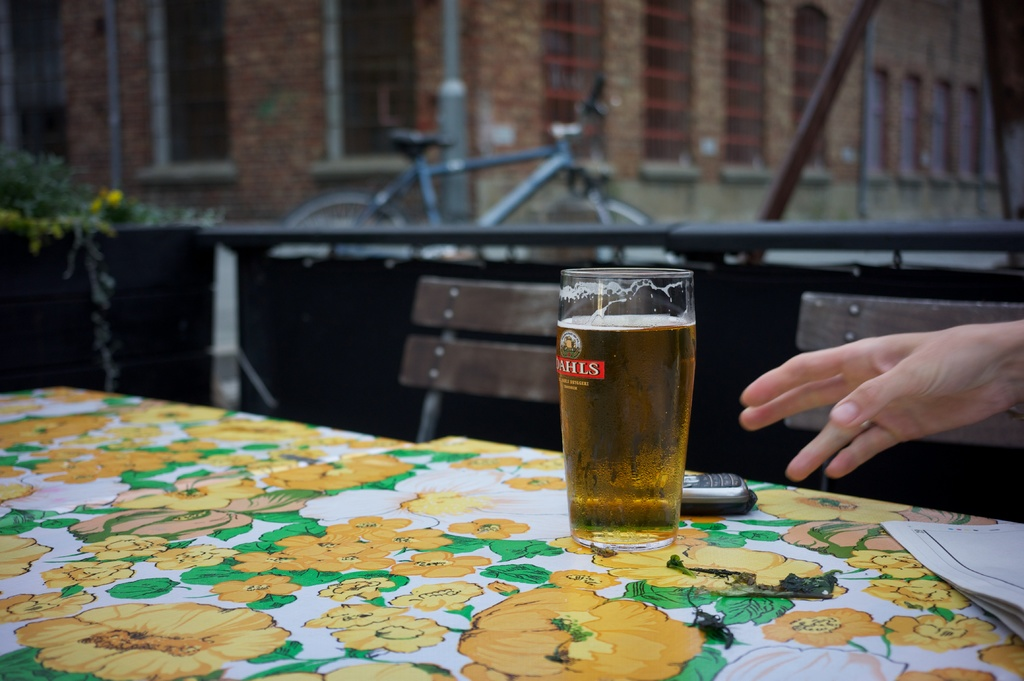Beer: (560, 273, 699, 549)
